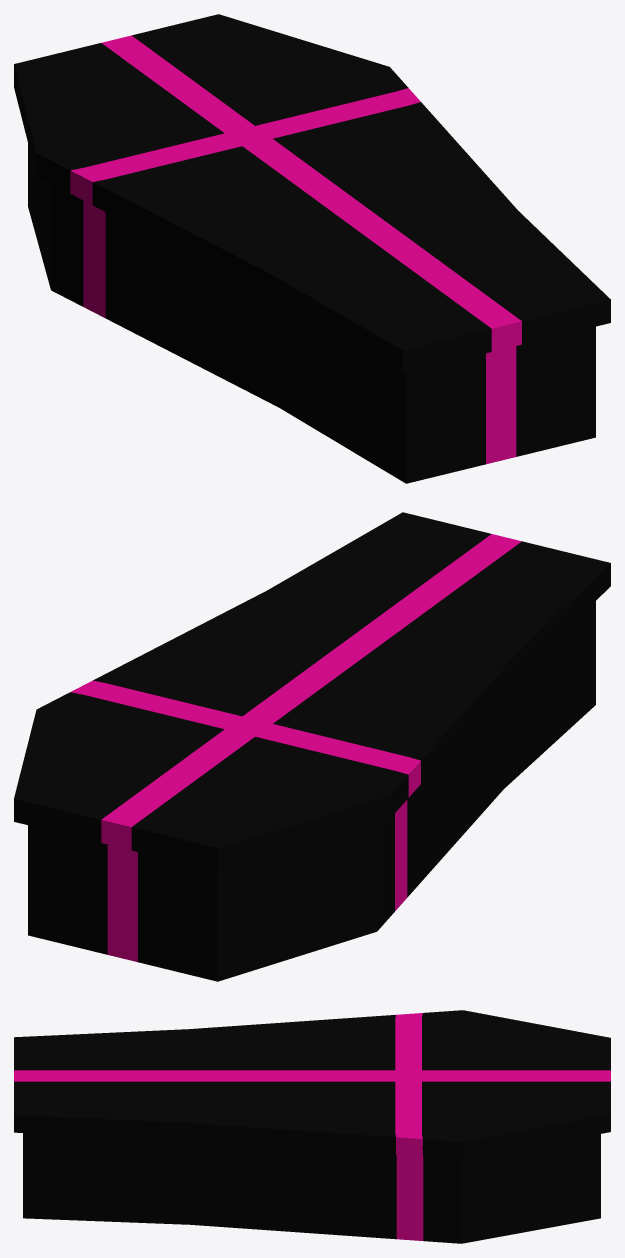
Rendered from cercueil.fbx.
3 renders of one model, top to bottom at view 1: azimuth 30°, elevation 25°; view 2: azimuth 150°, elevation 25°; view 3: azimuth 270°, elevation 25°, orthographic. The views are drawn at different scales.
Visible parts, largest first — view 1: couvercle, Cercueil; view 2: couvercle, Cercueil; view 3: couvercle, Cercueil.
Boxes of the visible parts, left/top/right/bottom form: couvercle: left=14, top=14, right=610, bottom=373; Cercueil: left=28, top=143, right=595, bottom=483; couvercle: left=14, top=512, right=610, bottom=871; Cercueil: left=28, top=601, right=595, bottom=981; couvercle: left=14, top=1010, right=610, bottom=1159; Cercueil: left=23, top=1133, right=600, bottom=1243.
Bounding box in the file's own units: 466 × 176 × 892.
